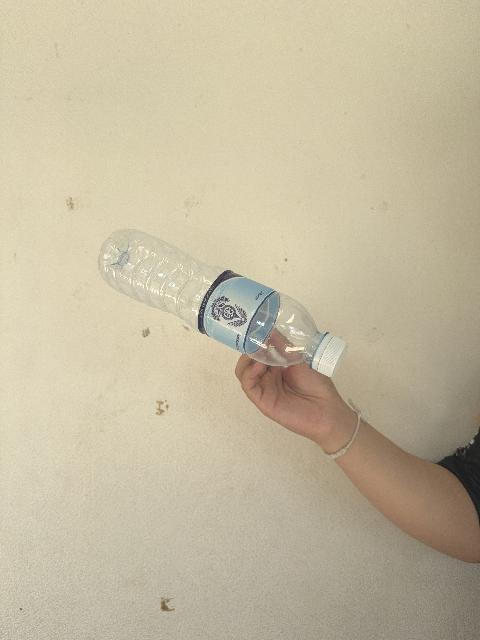bottle: (98, 230, 347, 377)
